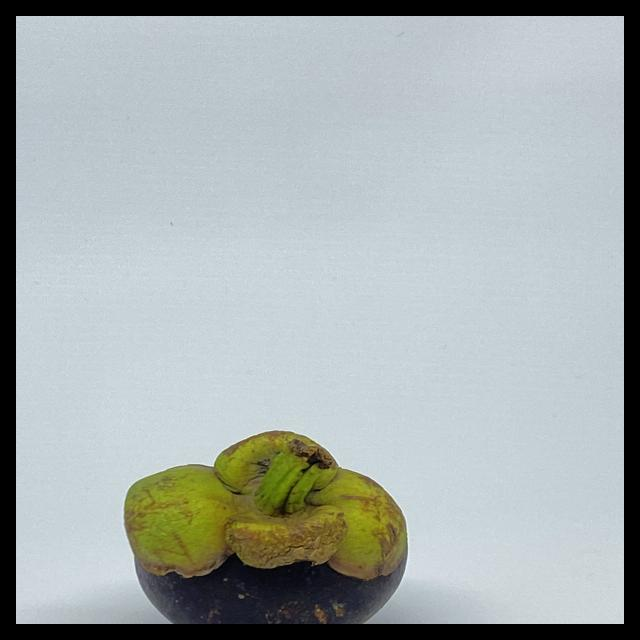mangosteen: (106, 404, 423, 624)
